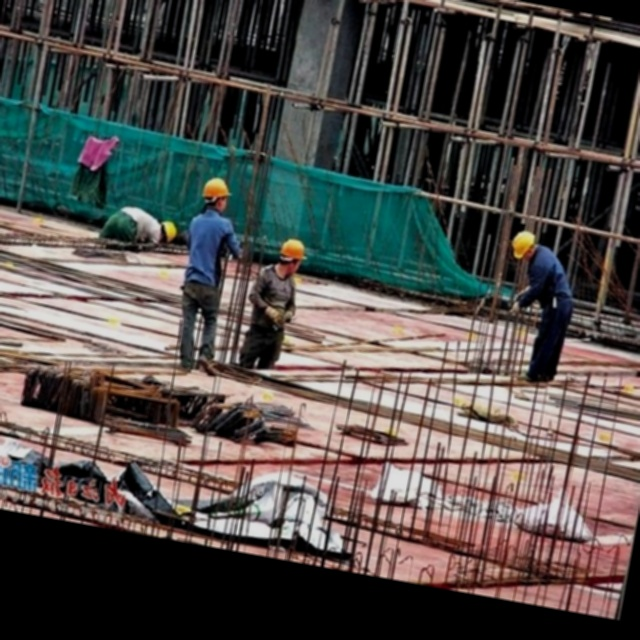Con_Casco: (275, 234, 311, 278), (200, 174, 235, 209), (507, 227, 538, 266)
